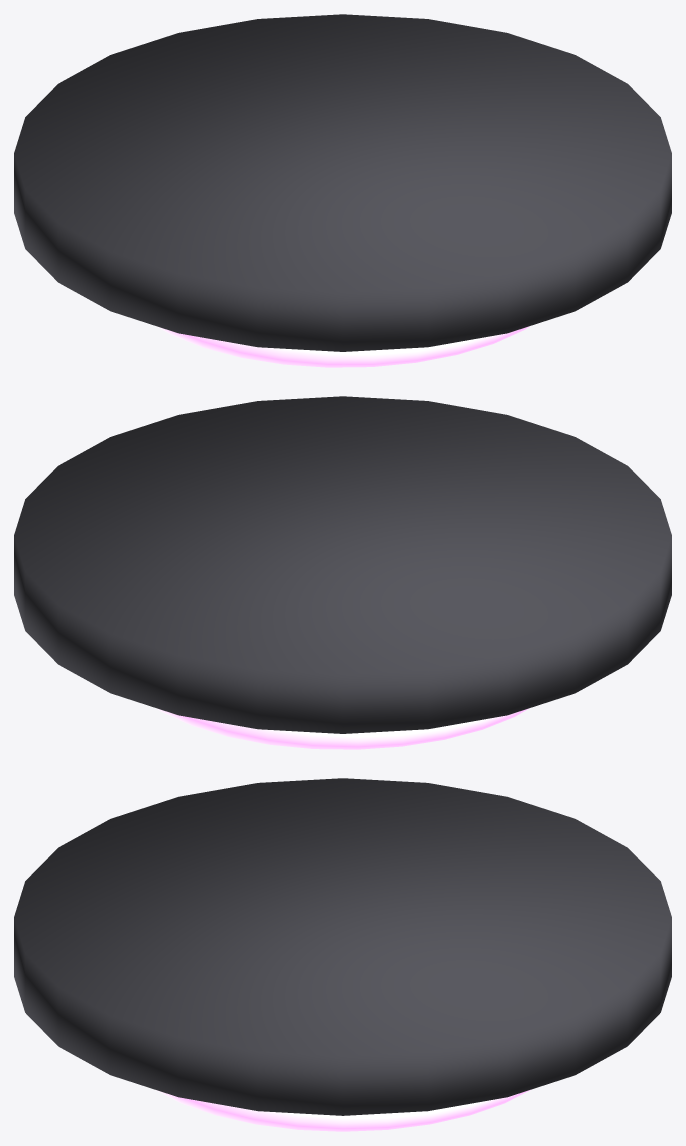
File: ceiling_vault_rune_boss.glb
3 views of the same model, one above another, from view 1: azimuth 30°, elevation 25°; view 2: azimuth 150°, elevation 25°; view 3: azimuth 270°, elevation 25° (orthographic).
Visible parts, largest first — view 1: GD_ceiling_vault_rune_boss__m0, GD_ceiling_vault_rune_boss__m1; view 2: GD_ceiling_vault_rune_boss__m0, GD_ceiling_vault_rune_boss__m1; view 3: GD_ceiling_vault_rune_boss__m0, GD_ceiling_vault_rune_boss__m1.
Part boxes in pixels (x1=…): GD_ceiling_vault_rune_boss__m0: x1=14, y1=14, x2=671, y2=351; GD_ceiling_vault_rune_boss__m1: x1=156, y1=326, x2=529, y2=367; GD_ceiling_vault_rune_boss__m0: x1=14, y1=396, x2=671, y2=733; GD_ceiling_vault_rune_boss__m1: x1=156, y1=708, x2=529, y2=749; GD_ceiling_vault_rune_boss__m0: x1=14, y1=778, x2=671, y2=1115; GD_ceiling_vault_rune_boss__m1: x1=154, y1=1089, x2=531, y2=1131.
Size of the model in its own units: 1 by 0.205 by 1.
